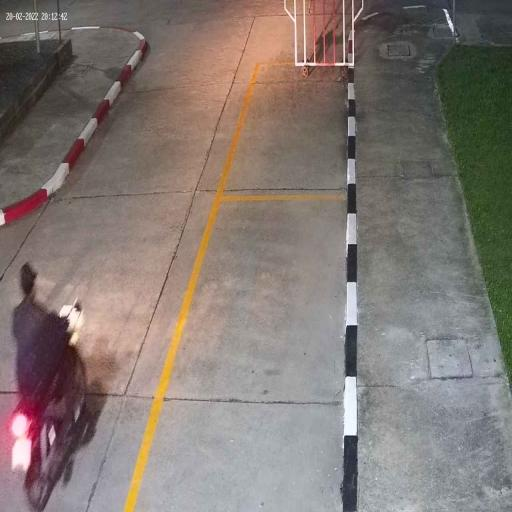motorcycle: (10, 344, 88, 511)
